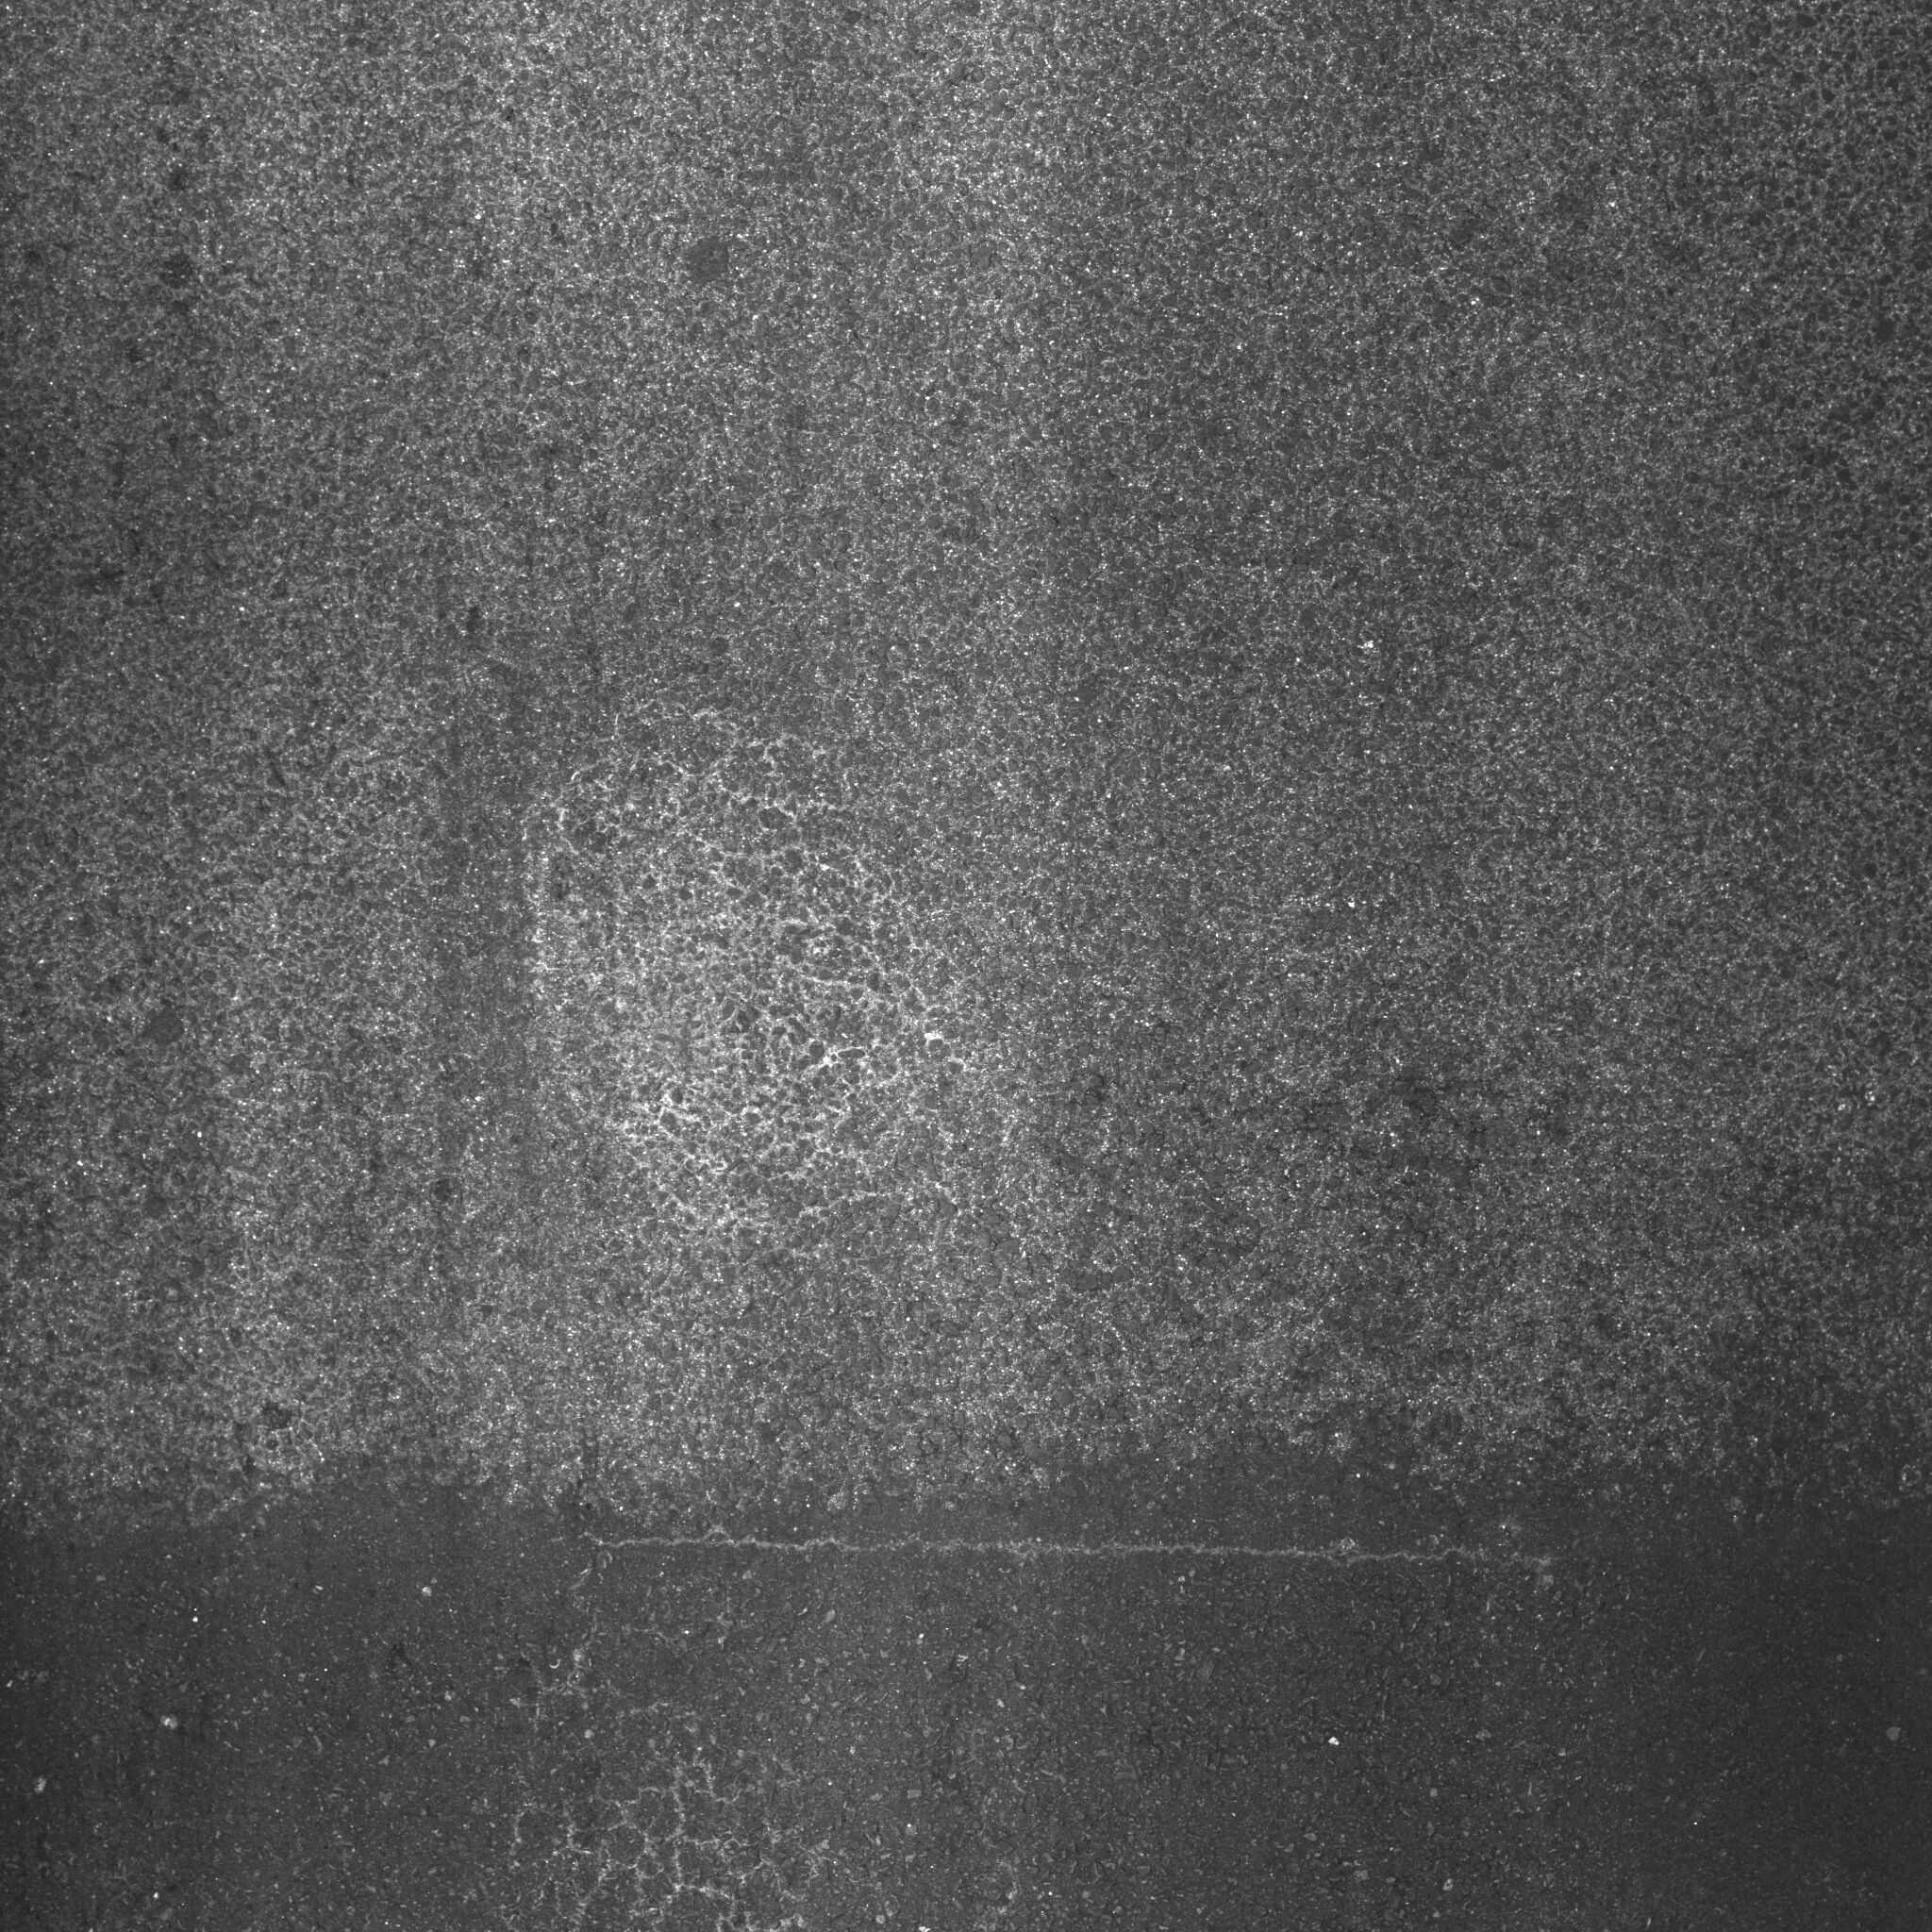alligator: (449, 656, 1352, 1474), (395, 1553, 1021, 1932)
